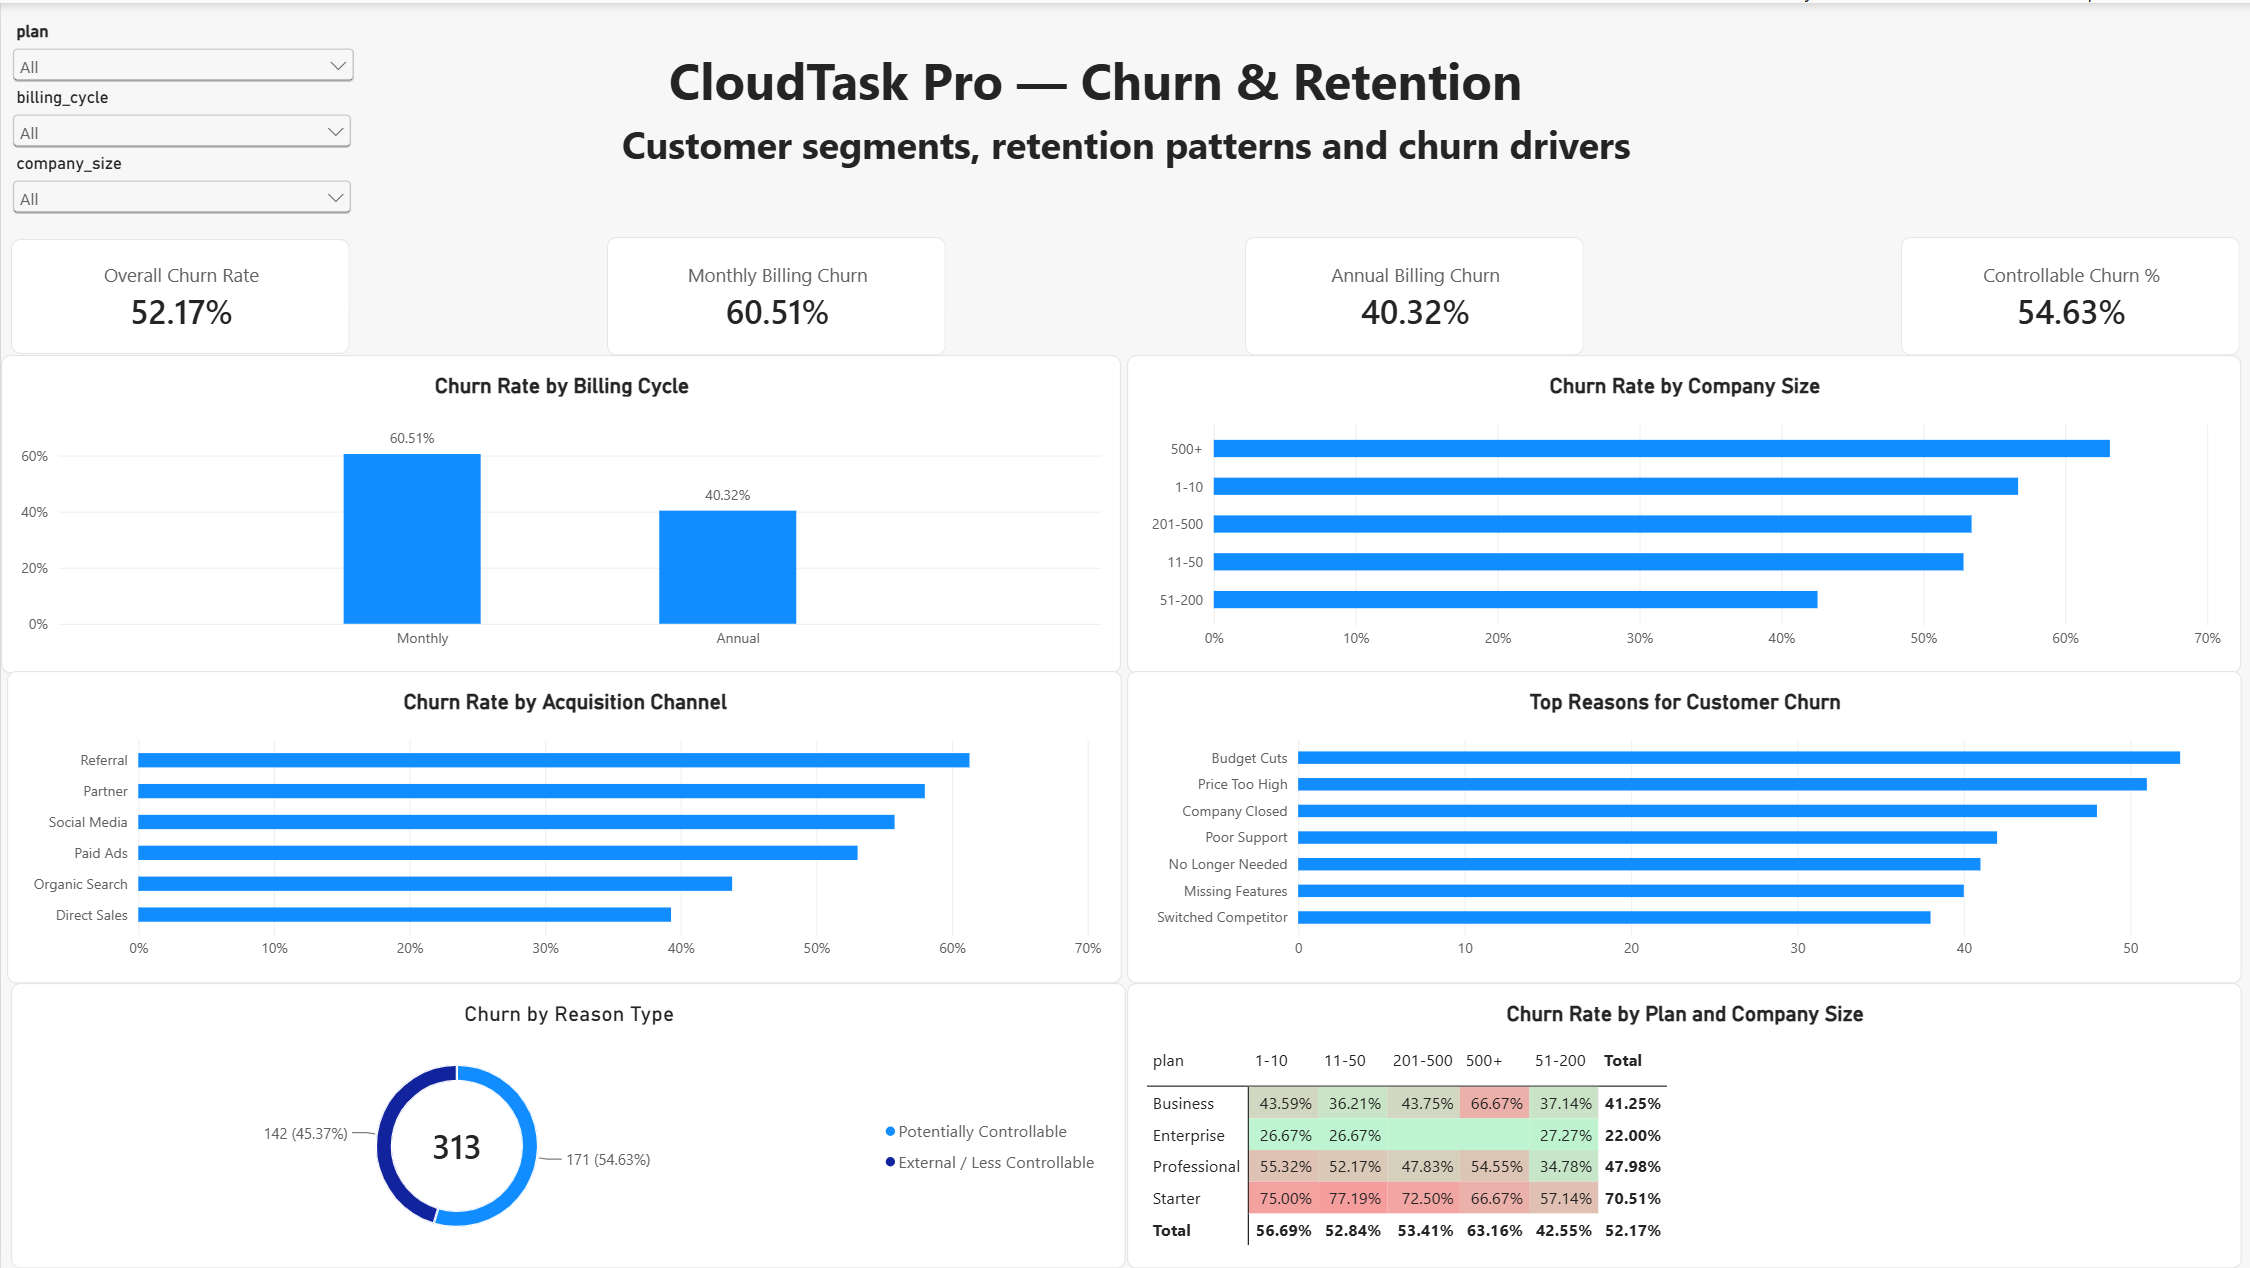

The dashboard page shown, as its layout file describes it:
{"tool":"powerbi","page":{"name":"Churn & Retention","canvas":[1920,1080],"ordinal":1},"visuals":[{"type":"textbox","box":[516.7,0,833.7,98.8],"z":0},{"type":"textbox","box":[484.6,98.8,950.8,55.1],"z":1000},{"type":"cardVisual","fields":{"Data":["Measures (2).Overall Churn Rate"]},"box":[9.2,202.1,289.4,98.8],"z":2000},{"type":"cardVisual","fields":{"Data":["Measures (2).Monthly Billing Churn"]},"box":[516.7,199.8,289.4,101.1],"z":3000},{"type":"cardVisual","fields":{"Data":["Measures (2).Annual Billing Churn"]},"box":[1061.1,199.8,289.4,101.1],"z":4000},{"type":"cardVisual","fields":{"Data":["Measures (2).Controllable Churn %"]},"box":[1621.4,199.8,289.4,101.1],"z":5000},{"type":"clusteredColumnChart","title":"Churn Rate by Billing Cycle","fields":{"Category":["subscriptions_cleaned.billing_cycle"],"Y":["Measures (2).Churn Rate"]},"box":[0,300.3,955.5,271.3],"z":6000},{"type":"barChart","title":"Churn Rate by Company Size","fields":{"Category":["subscriptions_cleaned.company_size"],"Y":["Measures (2).Churn Rate"]},"box":[960.6,300.3,950.3,271.3],"z":7000},{"type":"barChart","title":"Churn Rate by Acquisition Channel","fields":{"Category":["subscriptions_cleaned.acquisition_channel"],"Y":["Measures (2).Churn Rate"]},"box":[4.6,569.6,950.8,266.4],"z":8000},{"type":"barChart","title":"Top Reasons for Customer Churn","fields":{"Category":["subscriptions_cleaned.churn_reason"],"Y":["CountNonNull(subscriptions_cleaned.customer_id)"]},"box":[960,569.6,950.8,266.4],"z":9000},{"type":"donutChart","title":"Churn by Reason Type","fields":{"Category":["subscriptions_cleaned.Churn Reason Category"],"Y":["CountNonNull(subscriptions_cleaned.customer_id)"]},"box":[9.2,836,950.8,243.4],"z":10000},{"type":"pivotTable","title":"Churn Rate by Plan and Company Size","fields":{"Columns":["subscriptions_cleaned.company_size"],"Rows":["subscriptions_cleaned.plan"],"Values":["Measures (2).Churn Rate"]},"box":[960,836,950.8,243.4],"z":10001},{"type":"slicer","fields":{"Values":["subscriptions_cleaned.plan"]},"box":[4.6,16.1,300.9,71.2],"z":10002},{"type":"slicer","fields":{"Values":["subscriptions_cleaned.billing_cycle"]},"box":[4.6,71.2,298.6,52.8],"z":10003},{"type":"slicer","fields":{"Values":["subscriptions_cleaned.company_size"]},"box":[4.6,128.6,298.6,52.8],"z":10004}]}

Visuals, with their boxes in screenshot pixels (x1, y1, x2, y2), scaled from the page's 1920x1080 canvas onto the 2250x1268 screenshot:
textbox: (606,0,1582,116)
textbox: (568,116,1682,181)
cardVisual - Measures (2).Overall Churn Rate: (11,237,350,353)
cardVisual - Measures (2).Monthly Billing Churn: (606,235,945,353)
cardVisual - Measures (2).Annual Billing Churn: (1243,235,1583,353)
cardVisual - Measures (2).Controllable Churn %: (1900,235,2239,353)
"Churn Rate by Billing Cycle" clusteredColumnChart: (0,353,1120,671)
"Churn Rate by Company Size" barChart: (1126,353,2239,671)
"Churn Rate by Acquisition Channel" barChart: (5,669,1120,982)
"Top Reasons for Customer Churn" barChart: (1125,669,2239,982)
"Churn by Reason Type" donutChart: (11,982,1125,1267)
"Churn Rate by Plan and Company Size" pivotTable: (1125,982,2239,1267)
slicer - subscriptions_cleaned.plan: (5,19,358,102)
slicer - subscriptions_cleaned.billing_cycle: (5,84,355,146)
slicer - subscriptions_cleaned.company_size: (5,151,355,213)
